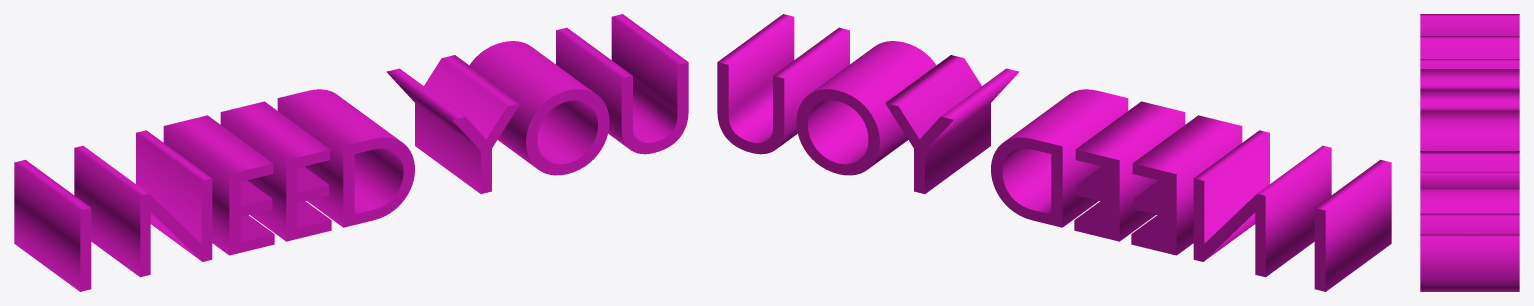
File: Lust2.fbx
3 views of the same model, side by side, from view 1: azimuth 30°, elevation 25°; view 2: azimuth 150°, elevation 25°; view 3: azimuth 270°, elevation 25° (orthographic). The views are drawn at different scales.
Visible parts, largest first — view 1: Text; view 2: Text; view 3: Text.
Part boxes in pixels (left/top/right/bottom): Text: left=14, top=14, right=688, bottom=291; Text: left=717, top=14, right=1391, bottom=291; Text: left=1420, top=14, right=1519, bottom=291.
Size of the model in its own units: 534 by 70 by 100.
